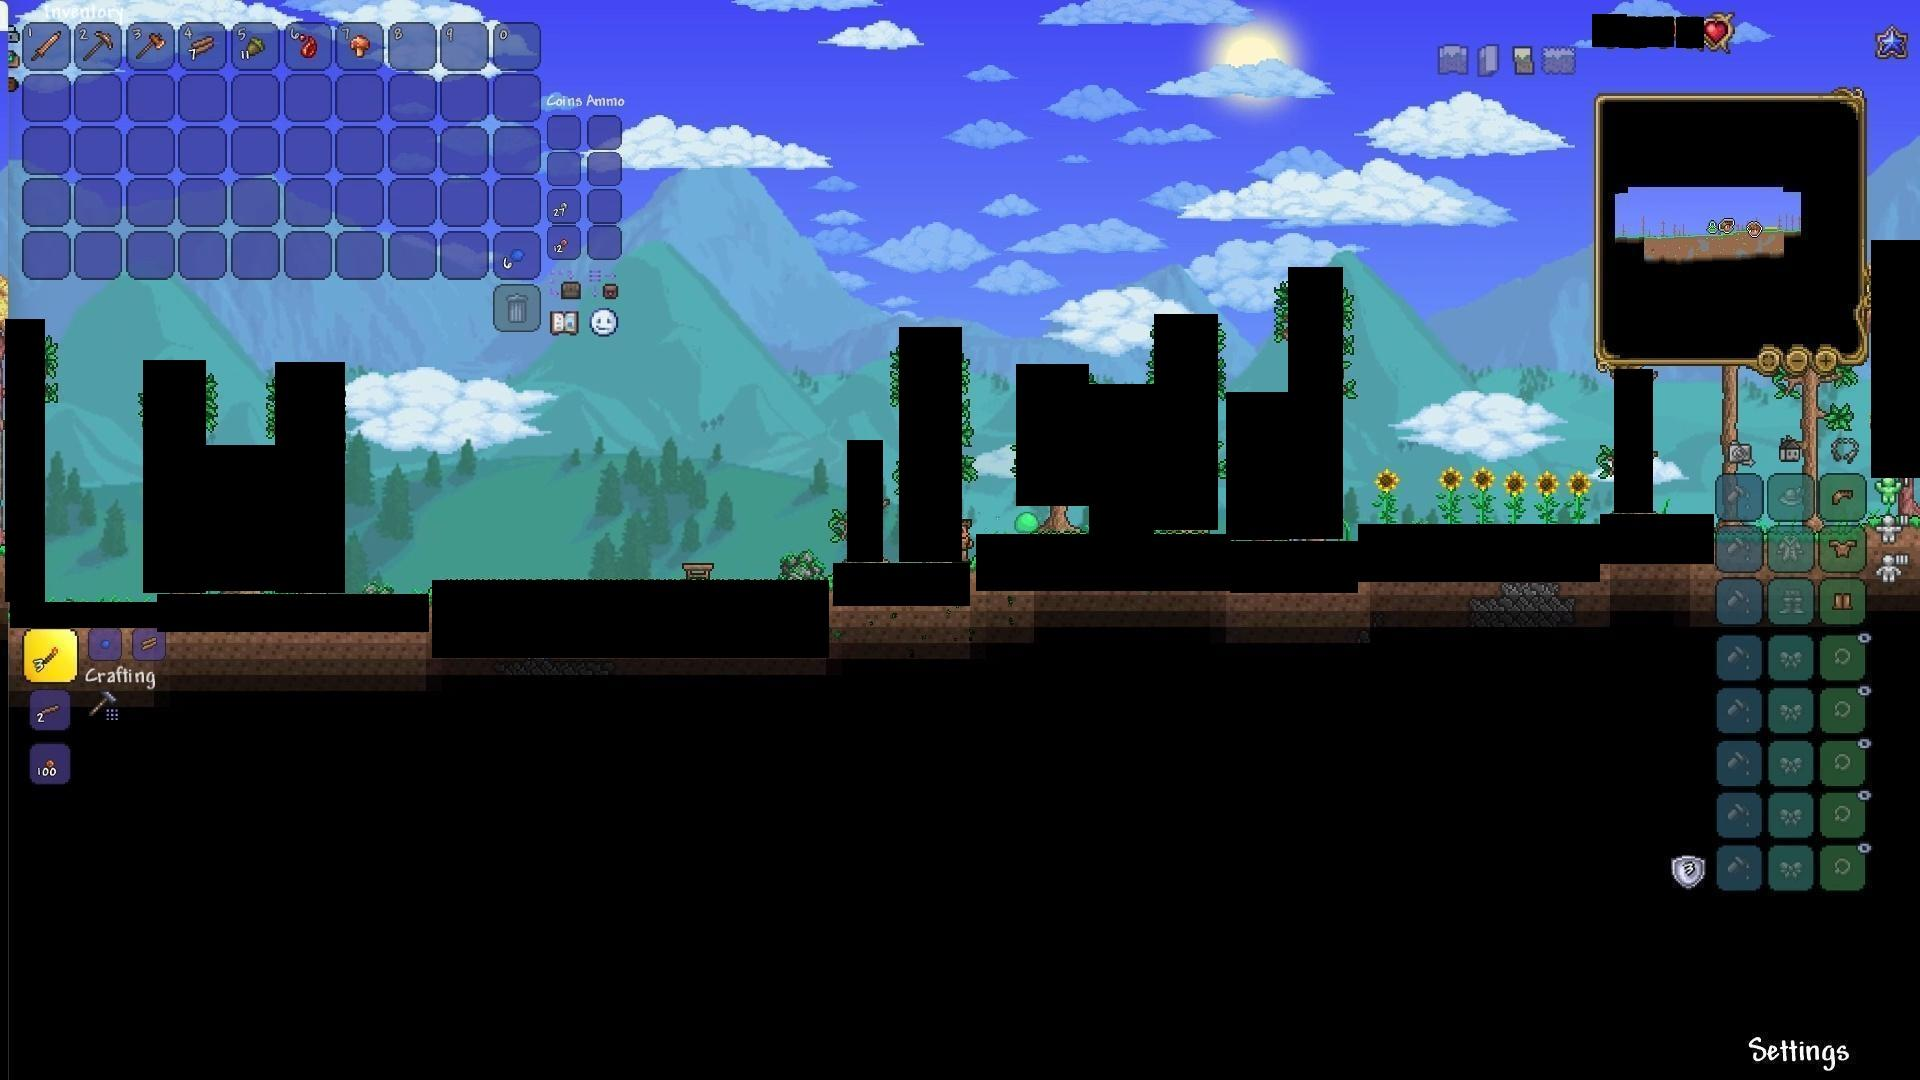breastplate: (1832, 538, 1859, 559)
heart: (1700, 18, 1727, 49)
helmet: (1830, 485, 1855, 508)
legs: (1830, 588, 1857, 615)
slime: (1009, 509, 1044, 534)
wood: (136, 630, 165, 658), (189, 33, 218, 61)
workbench: (679, 554, 716, 579)
